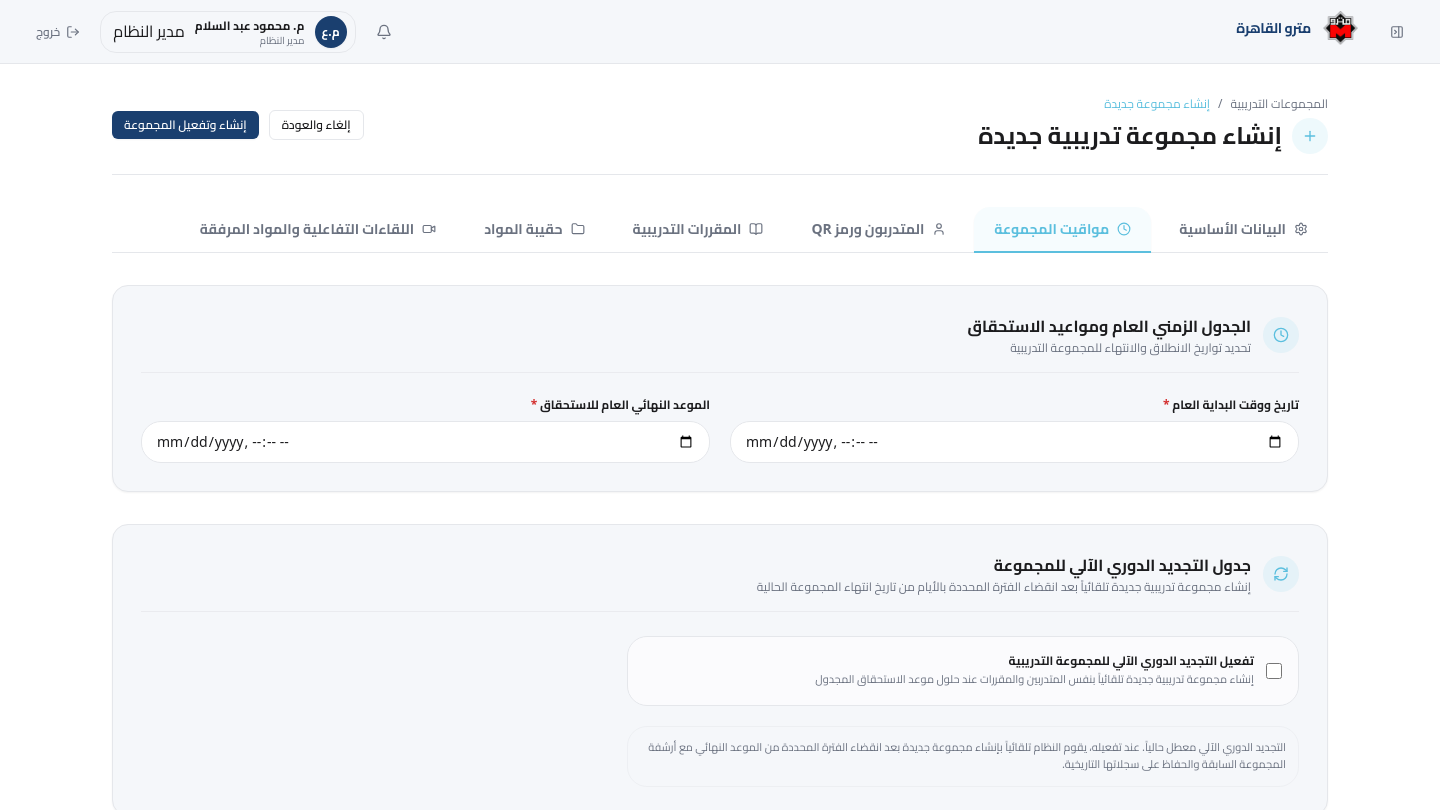
Test case: Custom Day-Based Automatic Group Renewal › 5. UI Integration & Form Validation (GroupEditorPage) › preset buttons update the same numeric input field
// Enable auto renewal
Click the checkbox with test id "auto-renewal-toggle": [1274, 671] box [1266,663,1282,679]
(page scrolled)
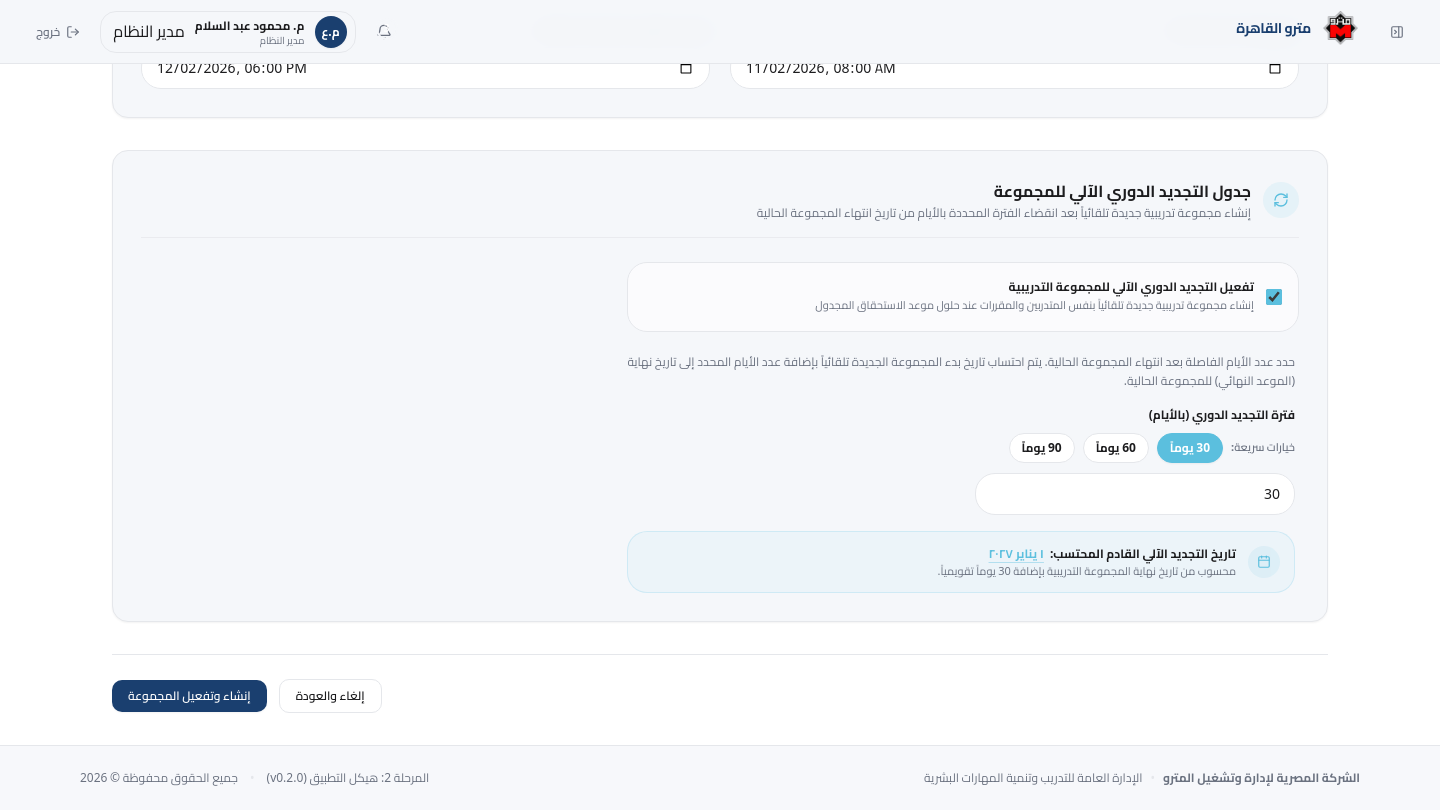
// Click 60 days preset
Click the button with test id "preset-interval-60": [1116, 448] box [1083,433,1149,463]
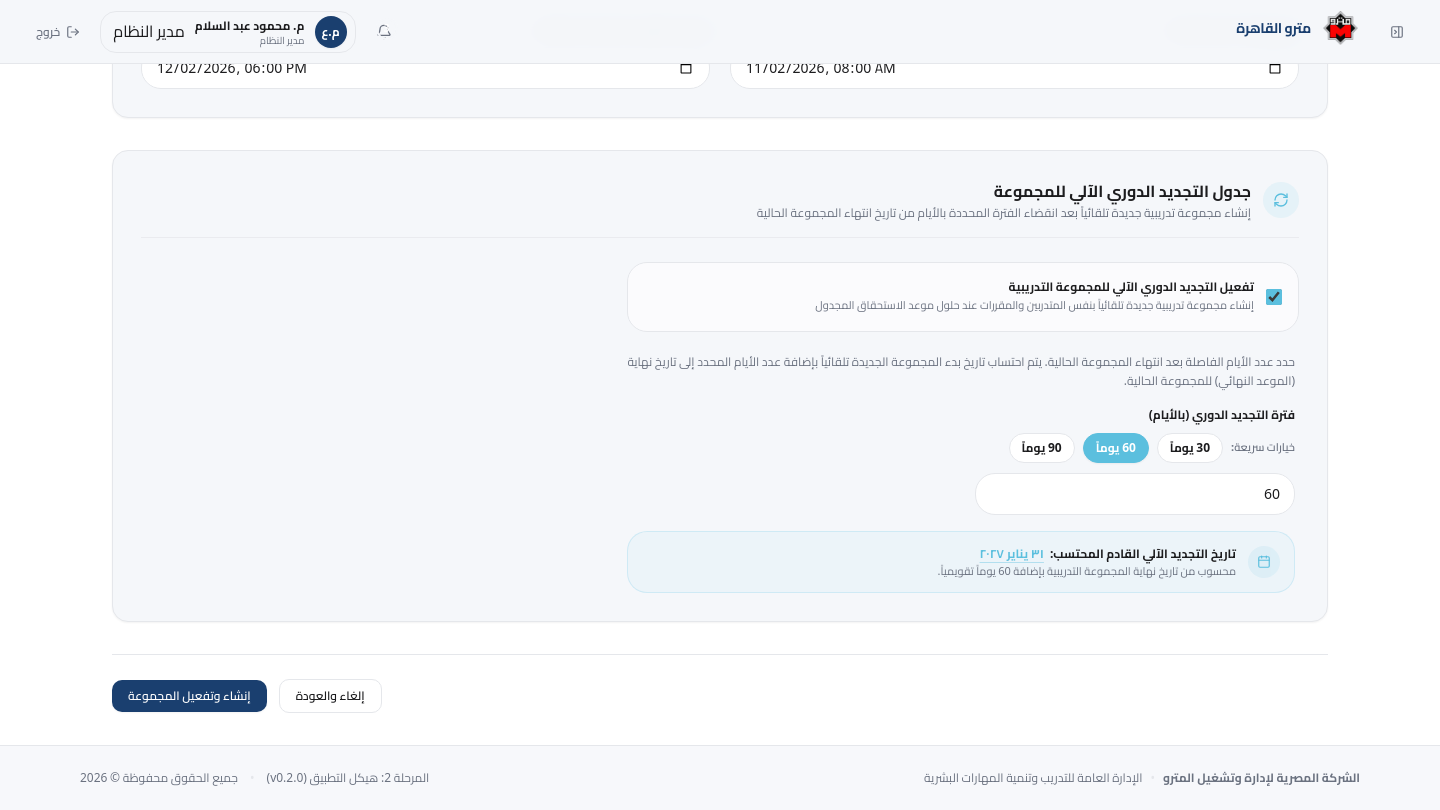
expect the number field with test id "renewal-interval-days-input" holds "60": met, box [975,473,1295,515]
// Click 90 days preset
Click the button with test id "preset-interval-90": [1042, 448] box [1009,433,1075,463]
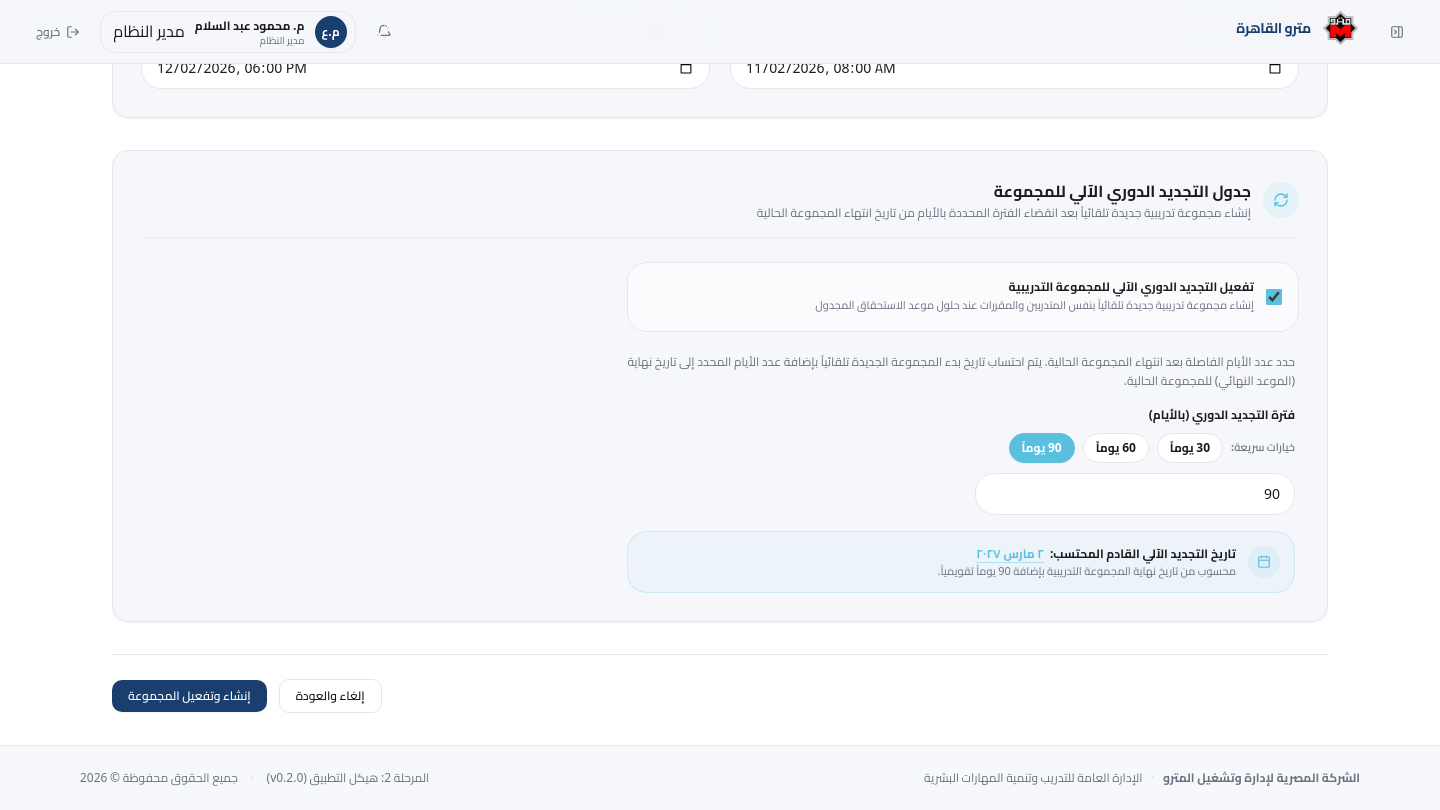
expect the number field with test id "renewal-interval-days-input" holds "90": met, box [975,473,1295,515]
// Click 30 days preset
Click the button with test id "preset-interval-30": [1190, 448] box [1157,433,1223,463]
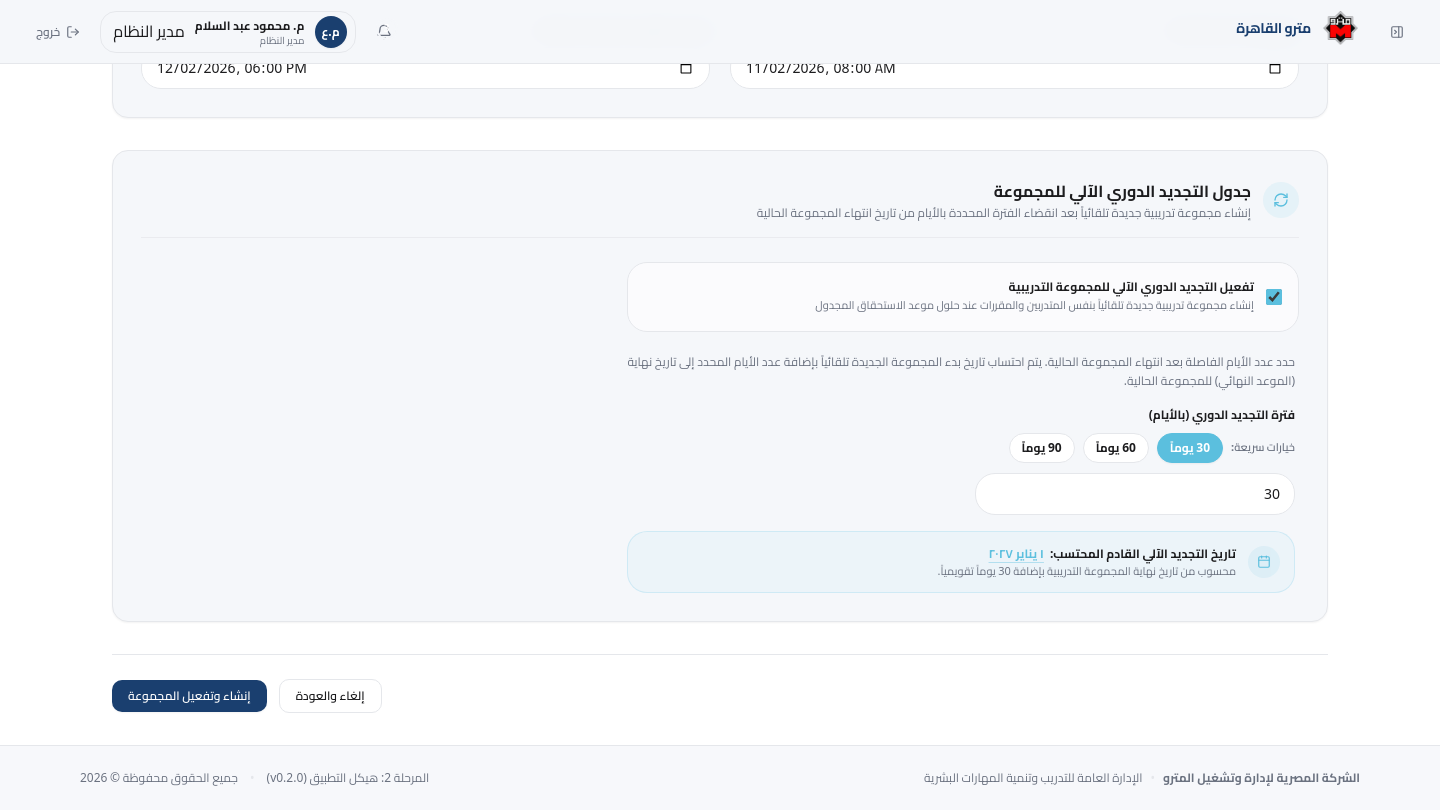
expect the number field with test id "renewal-interval-days-input" holds "30": met, box [975,473,1295,515]
